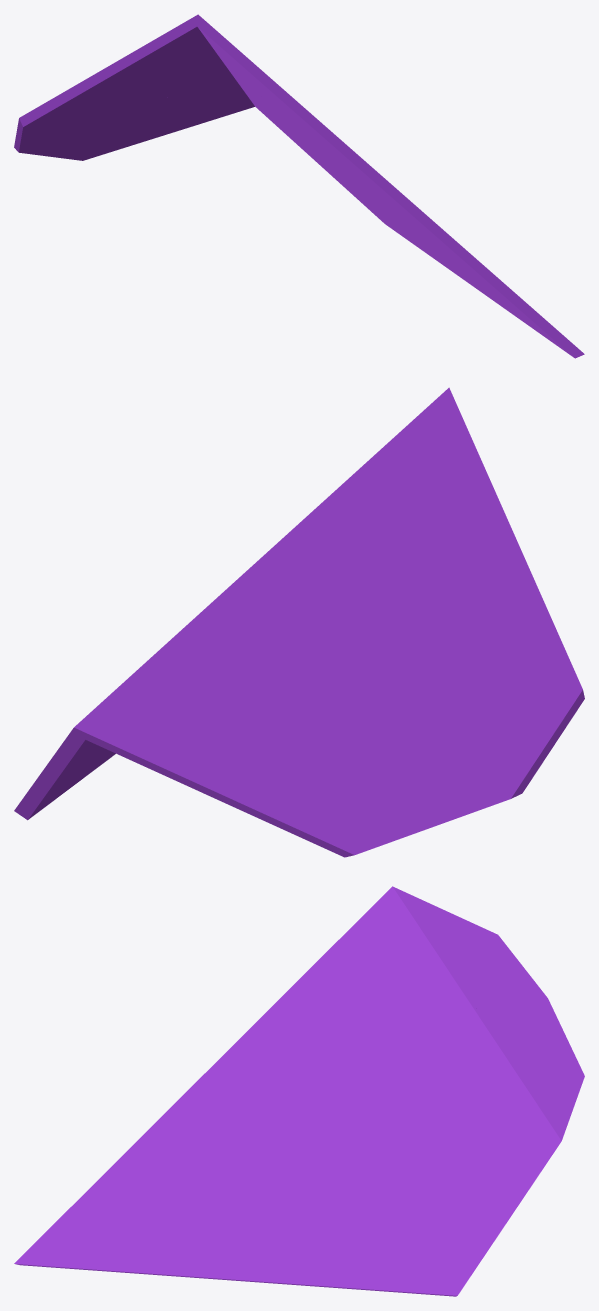
File: Window_26_14_chunks.fbx
3 views of the same model, one above another, from view 1: azimuth 30°, elevation 25°; view 2: azimuth 150°, elevation 25°; view 3: azimuth 270°, elevation 25° (orthographic). The views are drawn at different scales.
Visible parts, largest first — view 1: Window_26_14_11, Window_26_14_4, Window_26_14_9, Window_26_14_14, Window_26_14_2, Window_26_14_10, Window_26_14_8, Window_26_14_1, Window_26_14_13, Window_26_14_7, Window_26_14_5, Window_26_14_12; view 2: Window_26_14_4, Window_26_14_11, Window_26_14_9, Window_26_14_10, Window_26_14_5, Window_26_14_8, Window_26_14_0, Window_26_14_7; view 3: Window_26_14_14, Window_26_14_2, Window_26_14_13, Window_26_14_5, Window_26_14_7, Window_26_14_3, Window_26_14_1, Window_26_14_10, Window_26_14_12, Window_26_14_4, Window_26_14_11, Window_26_14_9 (+2 smaller).
Boxes of the visible parts, x1=… form: Window_26_14_11: x1=15, y1=42, x2=160, y2=143; Window_26_14_4: x1=123, y1=77, x2=263, y2=148; Window_26_14_9: x1=14, y1=91, x2=171, y2=158; Window_26_14_14: x1=425, y1=232, x2=584, y2=358; Window_26_14_2: x1=256, y1=71, x2=420, y2=213; Window_26_14_10: x1=146, y1=30, x2=256, y2=99; Window_26_14_8: x1=130, y1=14, x2=262, y2=81; Window_26_14_1: x1=253, y1=84, x2=368, y2=190; Window_26_14_13: x1=367, y1=188, x2=484, y2=294; Window_26_14_7: x1=206, y1=64, x2=351, y2=185; Window_26_14_5: x1=245, y1=104, x2=404, y2=237; Window_26_14_12: x1=361, y1=179, x2=442, y2=235; Window_26_14_4: x1=74, y1=579, x2=330, y2=835; Window_26_14_11: x1=374, y1=468, x2=584, y2=769; Window_26_14_9: x1=301, y1=632, x2=543, y2=842; Window_26_14_10: x1=274, y1=391, x2=445, y2=667; Window_26_14_5: x1=14, y1=728, x2=106, y2=820; Window_26_14_8: x1=437, y1=387, x2=484, y2=479; Window_26_14_0: x1=307, y1=813, x2=388, y2=857; Window_26_14_7: x1=218, y1=546, x2=281, y2=596; Window_26_14_14: x1=14, y1=1131, x2=226, y2=1279; Window_26_14_2: x1=174, y1=949, x2=383, y2=1113; Window_26_14_13: x1=218, y1=1139, x2=384, y2=1291; Window_26_14_5: x1=407, y1=1126, x2=561, y2=1296; Window_26_14_7: x1=414, y1=1005, x2=515, y2=1207; Window_26_14_3: x1=294, y1=1098, x2=417, y2=1293; Window_26_14_1: x1=313, y1=991, x2=428, y2=1164; Window_26_14_10: x1=347, y1=889, x2=516, y2=1034; Window_26_14_12: x1=153, y1=1104, x2=305, y2=1169; Window_26_14_4: x1=484, y1=1013, x2=581, y2=1140; Window_26_14_11: x1=421, y1=899, x2=533, y2=994; Window_26_14_9: x1=495, y1=981, x2=576, y2=1070.
Bounding box in the file's own units: 921 × 710 × 1228.
